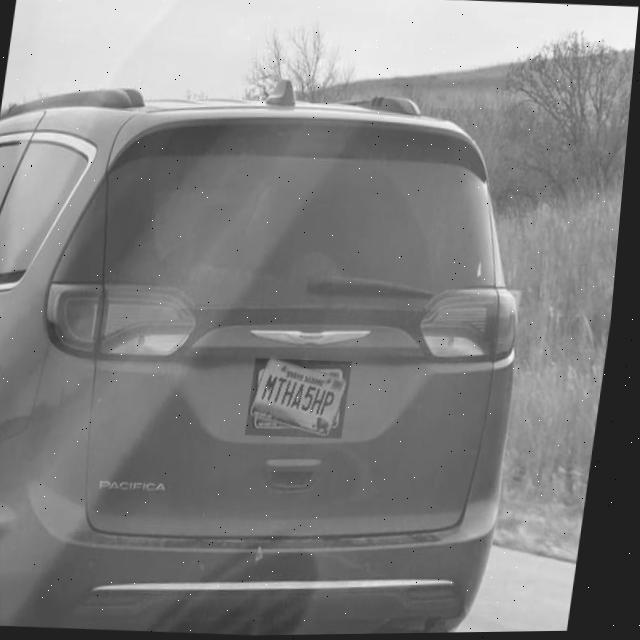LicensePlate: (256, 360, 357, 439)
